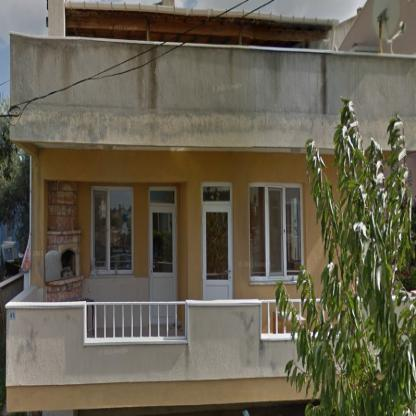door: (203, 206, 234, 298), (150, 208, 176, 301)
window: (249, 183, 303, 283), (90, 188, 132, 274), (201, 182, 232, 204), (150, 187, 176, 204)
